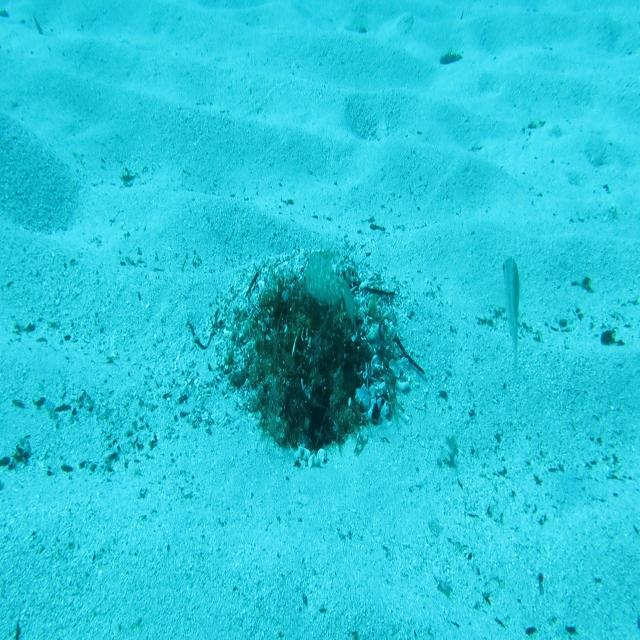INSF: (303, 249, 357, 326)
core_nest: (286, 296, 338, 332)
female: (502, 255, 522, 388)
nest: (207, 242, 416, 481)
vegetation: (438, 49, 463, 70)
